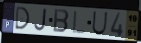4: (110, 12, 125, 39)
B: (52, 8, 71, 35)
D: (14, 6, 31, 31)
J: (33, 8, 48, 32)
L: (72, 10, 86, 34)
U: (91, 11, 109, 37)
